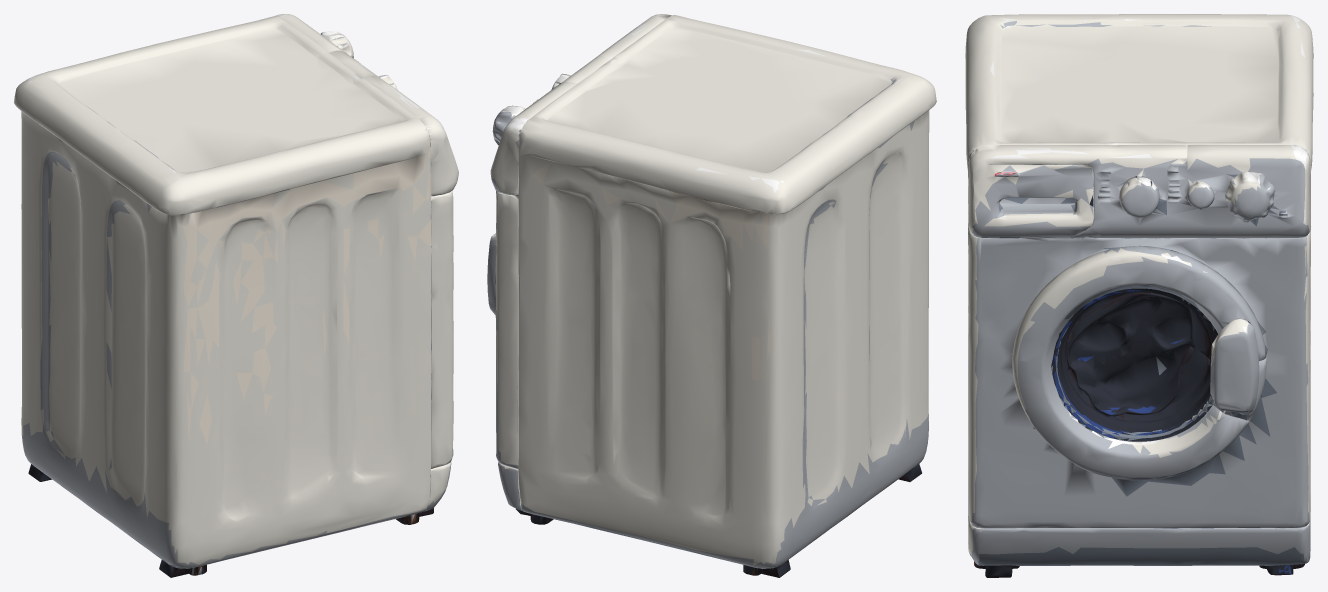
The model's file is SM_washing_machine.fbx.
3 views of the same model, side by side, from view 1: azimuth 30°, elevation 25°; view 2: azimuth 150°, elevation 25°; view 3: azimuth 270°, elevation 25° (orthographic). The views are drawn at different scales.
Visible parts, largest first — view 1: SM_washing_machine; view 2: SM_washing_machine; view 3: SM_washing_machine.
Part boxes in pixels (x1,y1,x2,y2): SM_washing_machine: (14,14,458,577); SM_washing_machine: (487,14,936,577); SM_washing_machine: (965,14,1313,577).
Size of the model in its own units: 72.64 by 85 by 62.6.
Materials: 1 (1 with a texture image).
